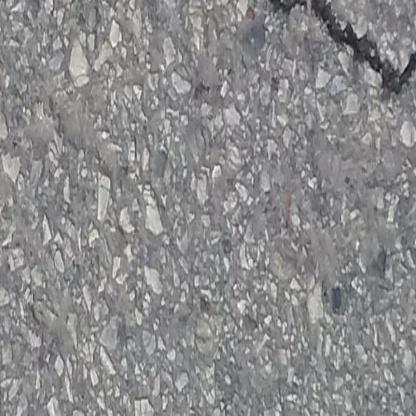Cracks: (237, 0, 416, 108)
